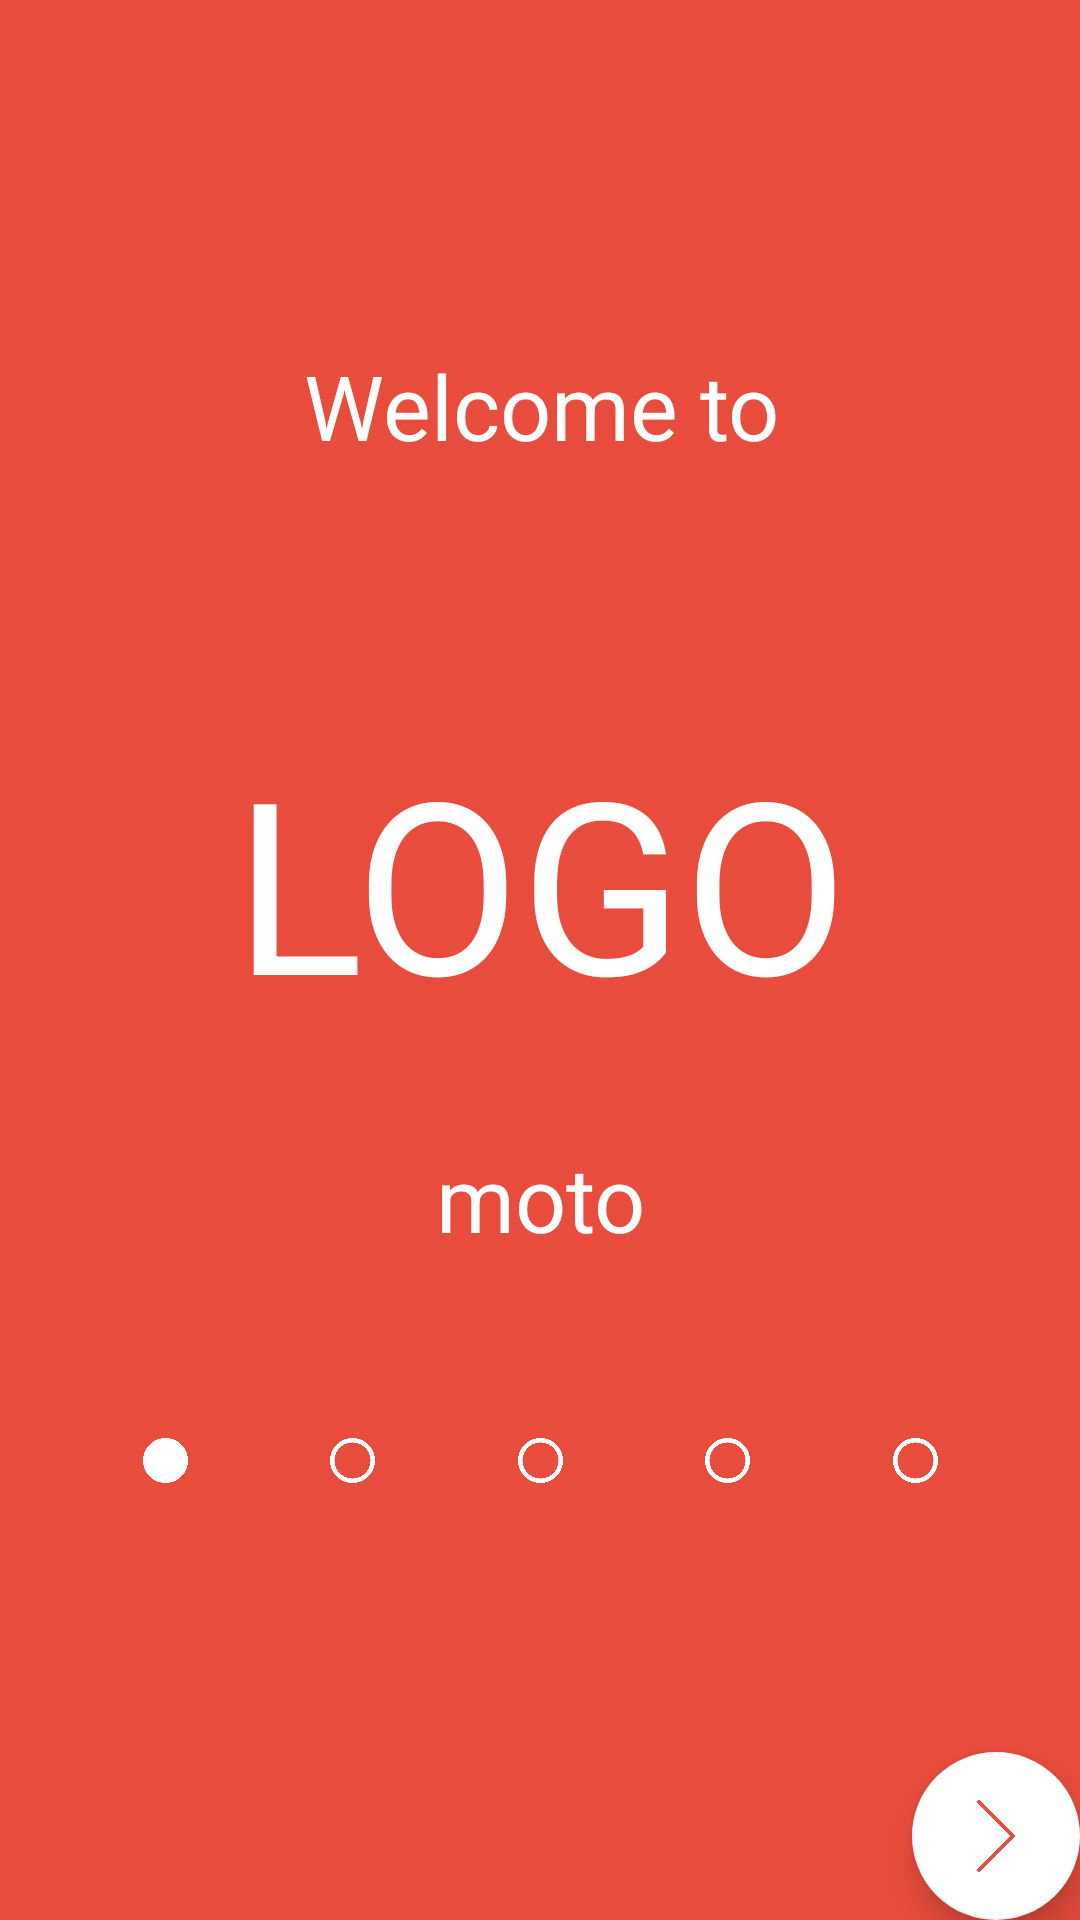

Icons on this 1080px x 1920px Android screen, each with its box as (x1, y1, x2, y2):
next: (912, 1752, 1080, 1920)
